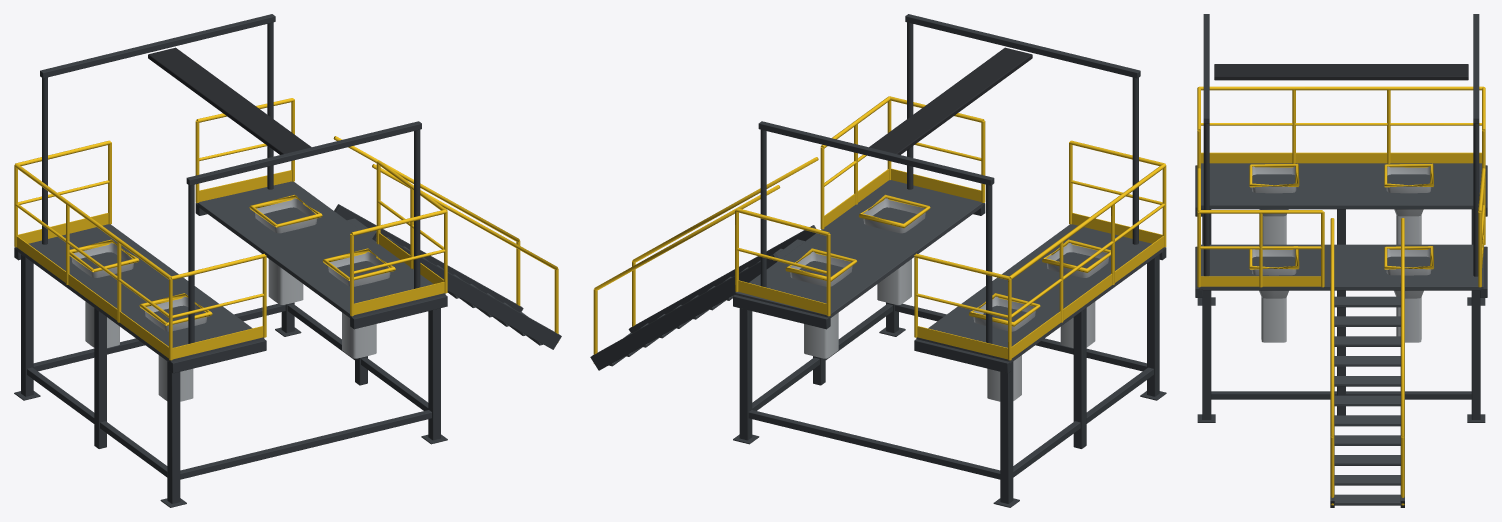
Rendered from picking_platform.fbx.
The picture shows the model from 3 angles, left to right: view 1: azimuth 30°, elevation 25°; view 2: azimuth 150°, elevation 25°; view 3: azimuth 270°, elevation 25°; orthographic projection. The views are drawn at different scales.
Visible parts, largest first — view 1: picking_platform; view 2: picking_platform; view 3: picking_platform.
Boxes of the visible parts, left/top/right/bottom form: picking_platform: left=14, top=14, right=561, bottom=507; picking_platform: left=590, top=14, right=1166, bottom=507; picking_platform: left=1195, top=14, right=1487, bottom=507.
Size of the model in its own units: 6.58 by 4.42 by 3.9.
